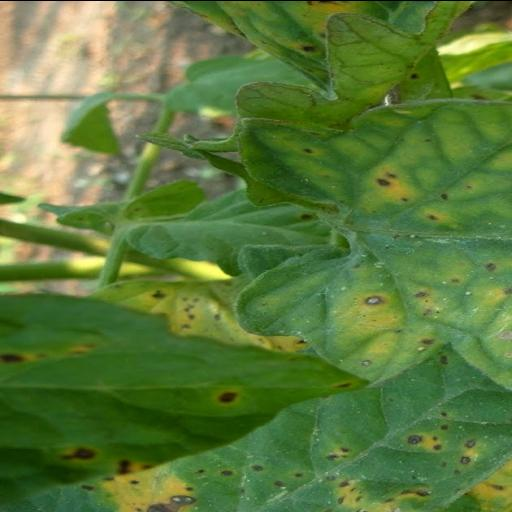Septoria: (0, 341, 512, 512), (235, 90, 512, 390), (0, 292, 364, 507)
